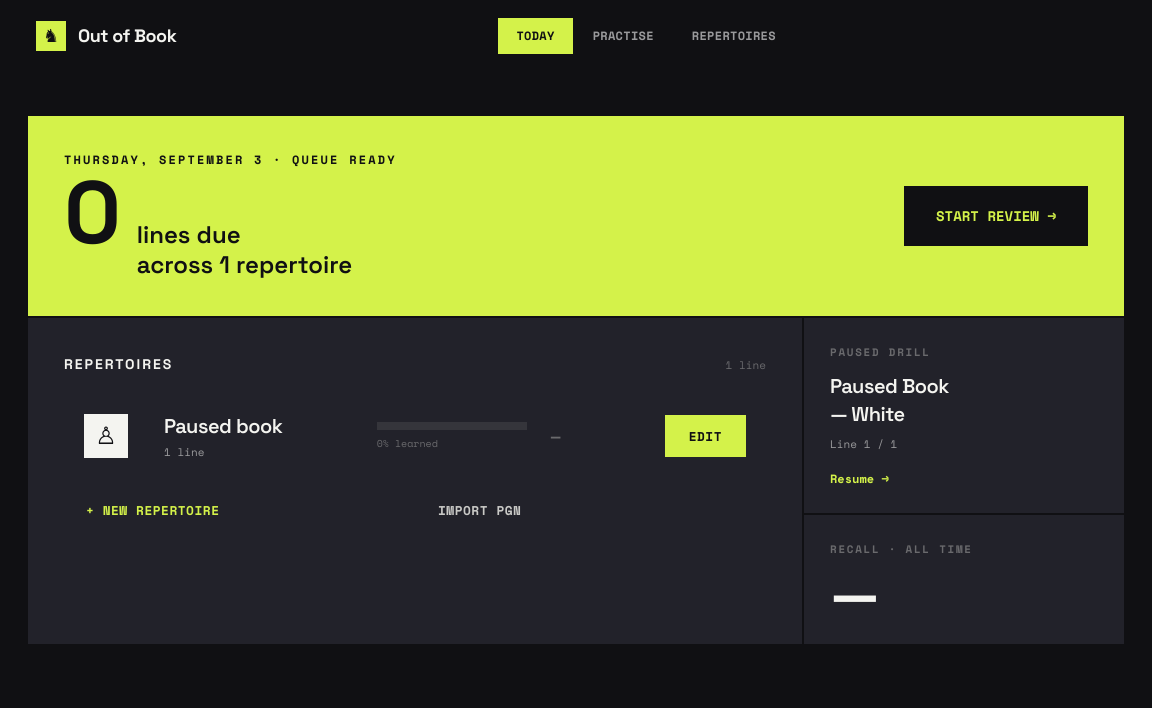
Test: SparringApp › resumes an unfinished drill from the dashboard
This screenshot has width=1152, height=708.
Click the button "Paused drill Paused book— white Line 1 / 1 Resume →". click: (880, 352)
box: x1=804 y1=318 x2=1124 y2=513
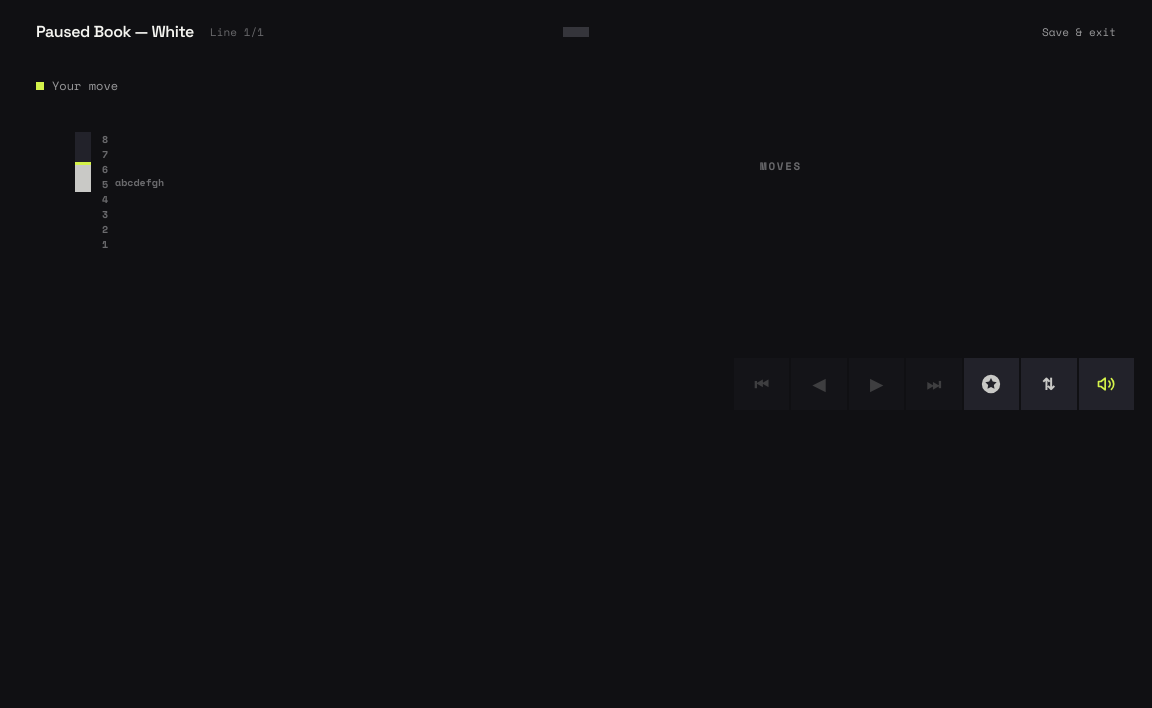
Check: the text "Line 1/1" is shown, box x1=210 y1=24 x2=264 y2=40
Check: the text "Paused book — white" is shown, box x1=36 y1=20 x2=194 y2=44
